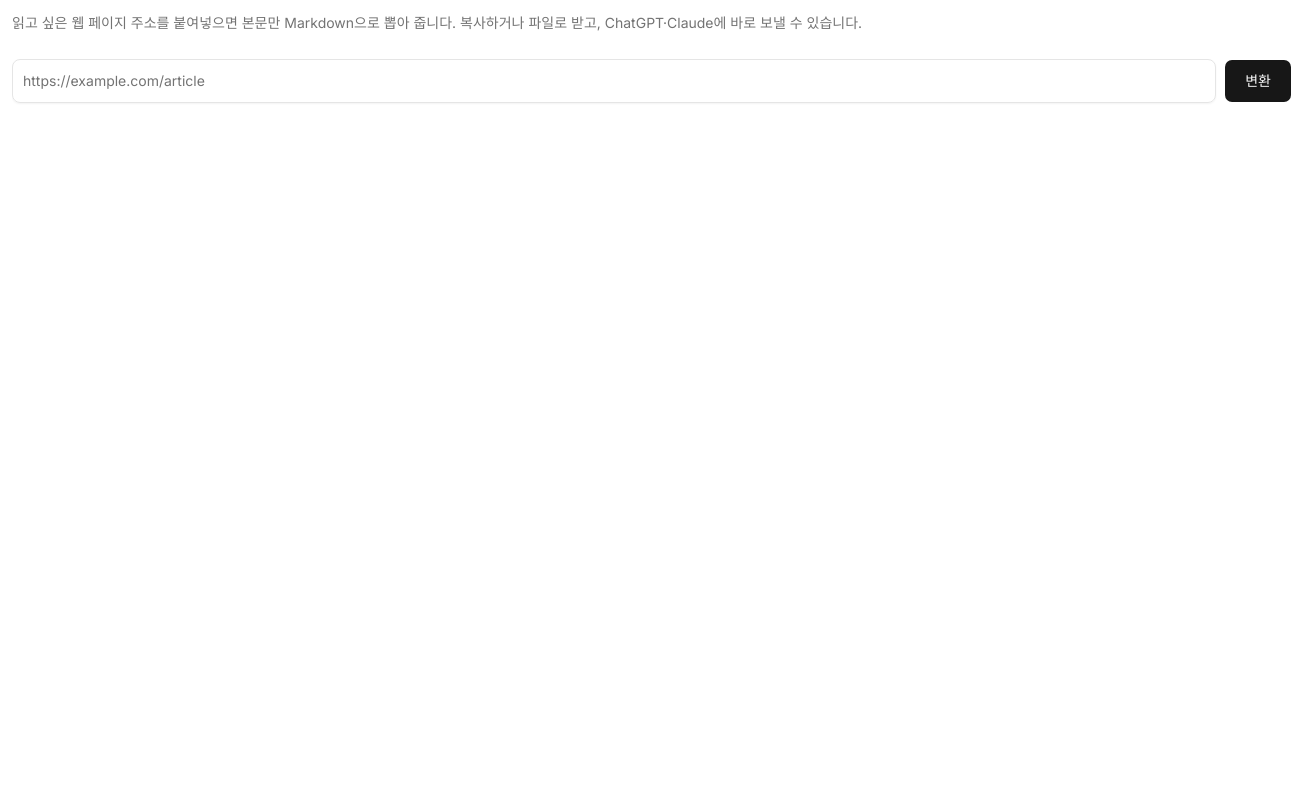
변환하면 제목 헤더, 저자, 렌더링된 Markdown(제목·링크·목록)이 나온다
This screenshot has width=1304, height=812.
Type "https://example.com/a" into the field named "웹 페이지 URL". click: (614,81)
box: [12, 59, 1216, 103]
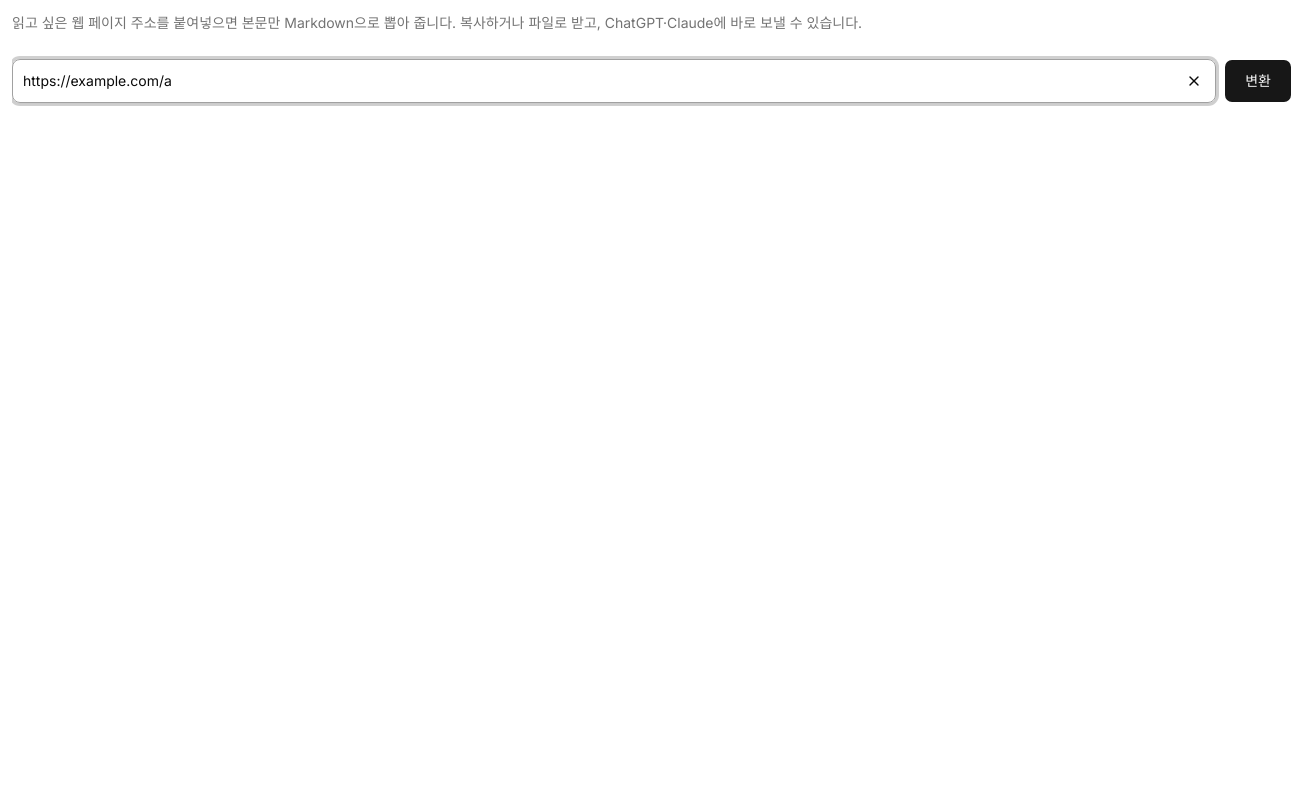
Click the button "변환". click: (1258,81)
box: [1224, 59, 1292, 103]
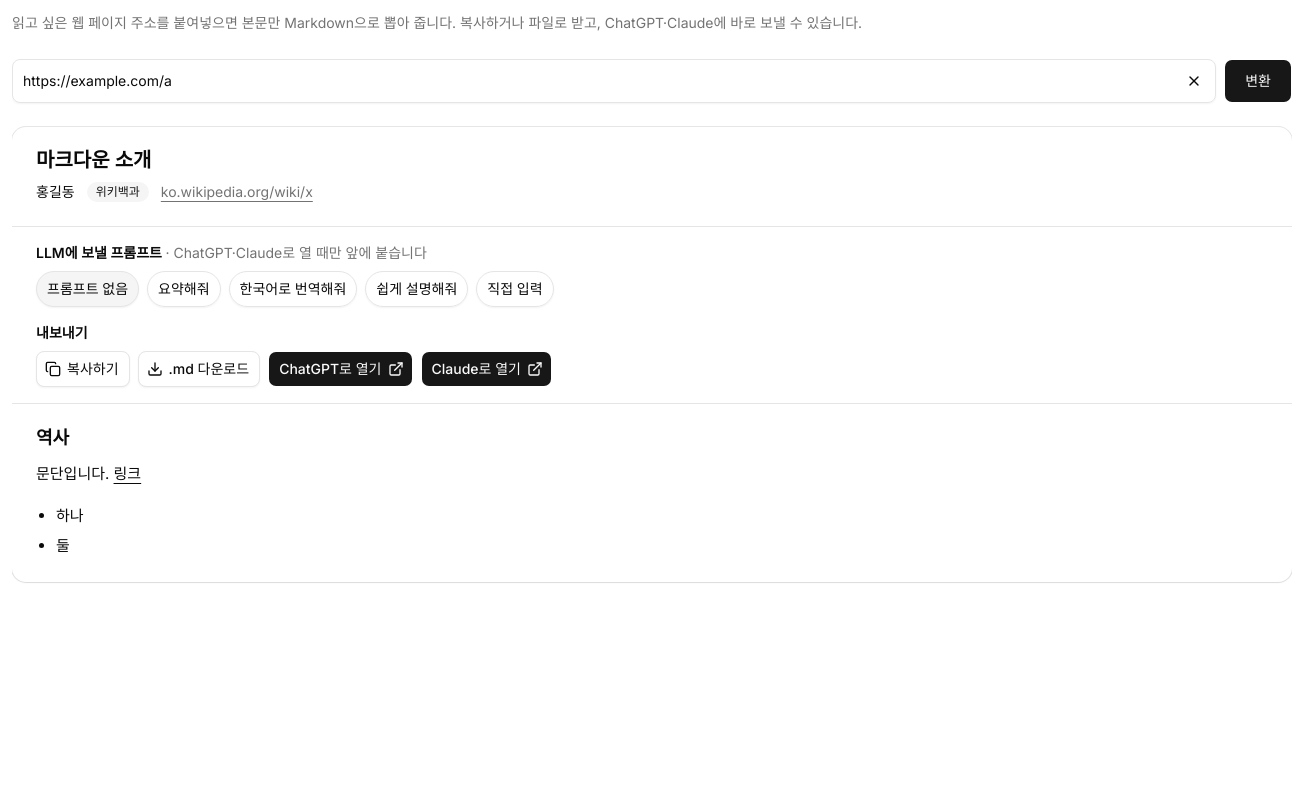
Expected: the heading "마크다운 소개" is shown, [36, 148, 152, 172]
Expected: the text "홍길동" is shown, [36, 182, 75, 202]
Expected: the heading "역사" is shown, [36, 427, 69, 448]
